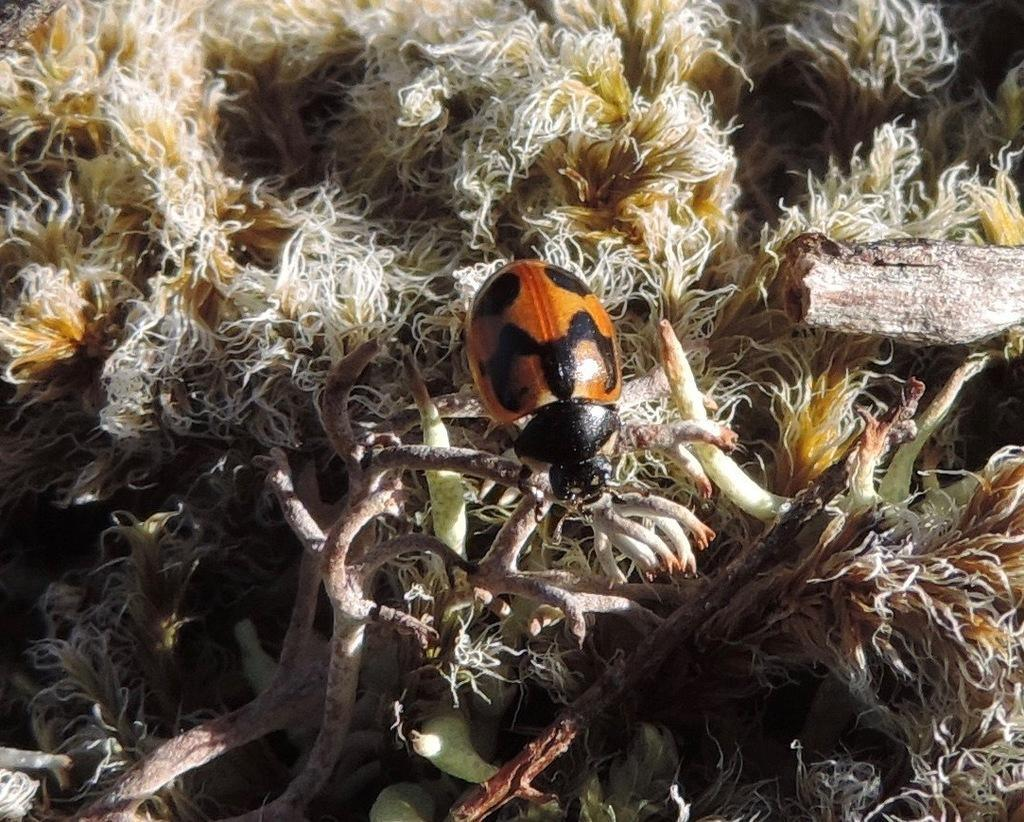ladybug: (464, 254, 626, 509)
